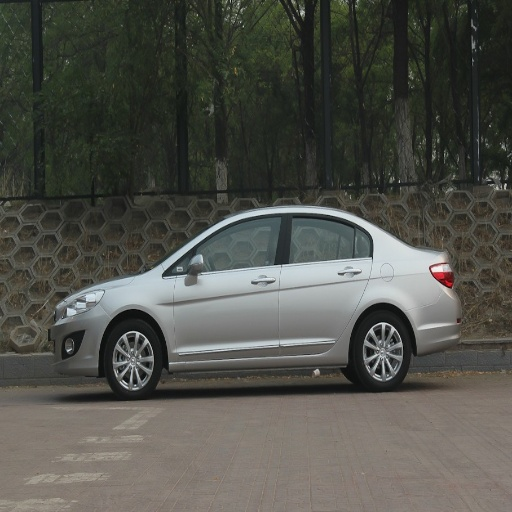back_left_door: (280, 213, 374, 355)
front_left_door: (171, 213, 283, 356)
